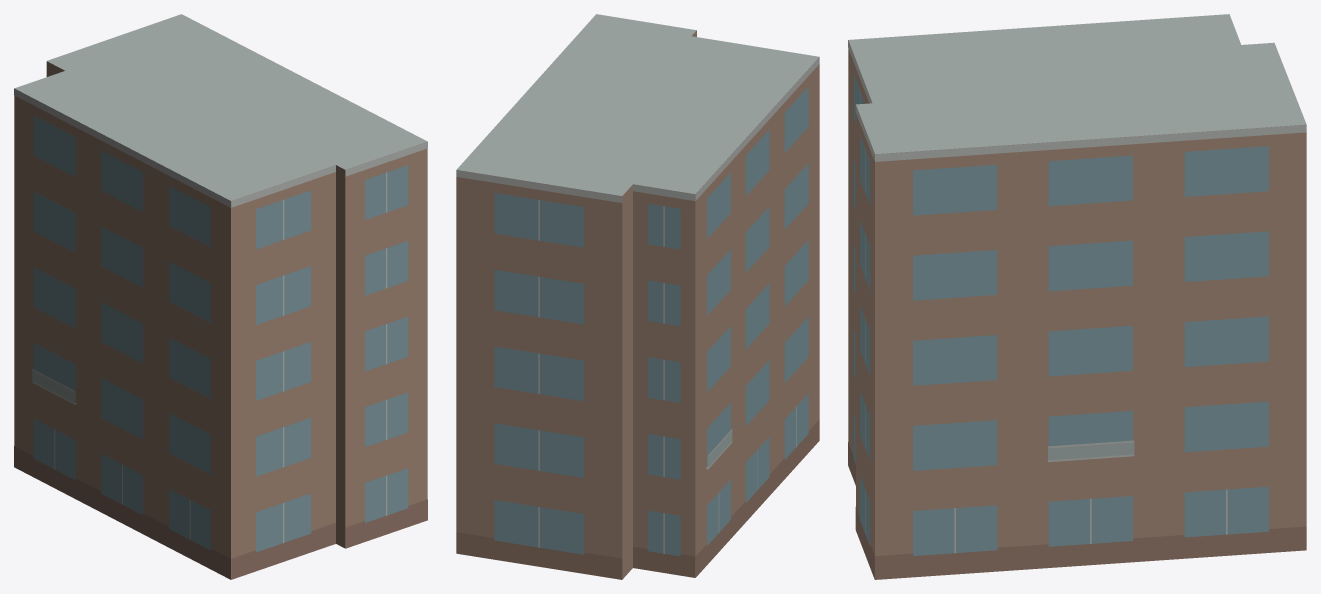
The model's file is survey-upis-32738810.glb.
The picture shows the model from 3 angles, left to right: view 1: azimuth 30°, elevation 25°; view 2: azimuth 150°, elevation 25°; view 3: azimuth 270°, elevation 25°; orthographic projection. The views are drawn at different scales.
Parts seen in each view (by area): view 1: survey-upis-32738810.tmp; view 2: survey-upis-32738810.tmp; view 3: survey-upis-32738810.tmp.
Boxes of the visible parts, left/top/right/bottom form: survey-upis-32738810.tmp: left=14, top=14, right=427, bottom=579; survey-upis-32738810.tmp: left=456, top=14, right=819, bottom=579; survey-upis-32738810.tmp: left=848, top=14, right=1306, bottom=579.
Size of the model in its own units: 9.48 by 13.4 by 13.09.
